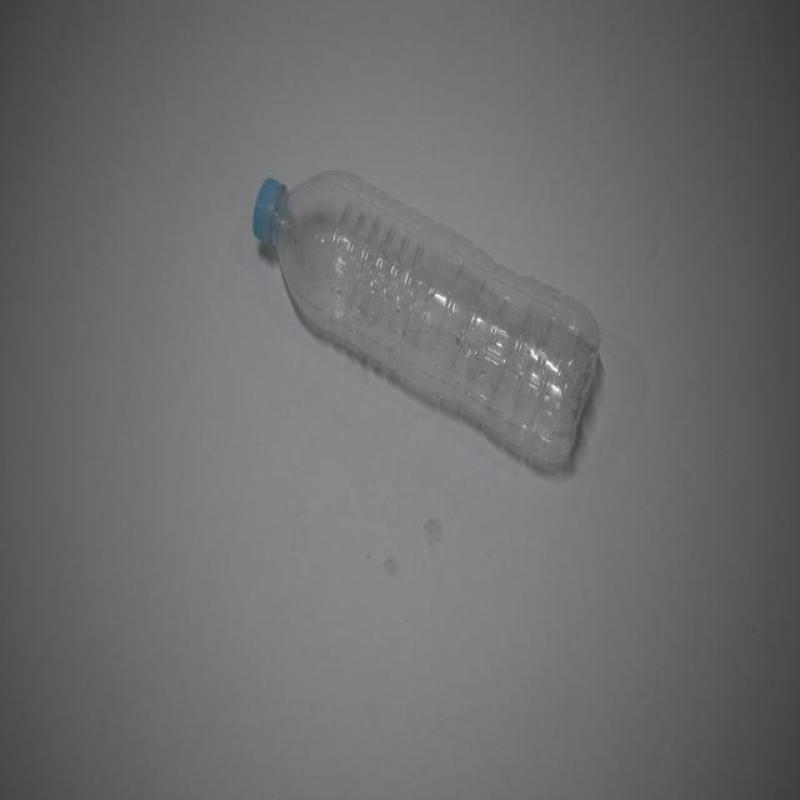botella: (251, 166, 601, 476)
